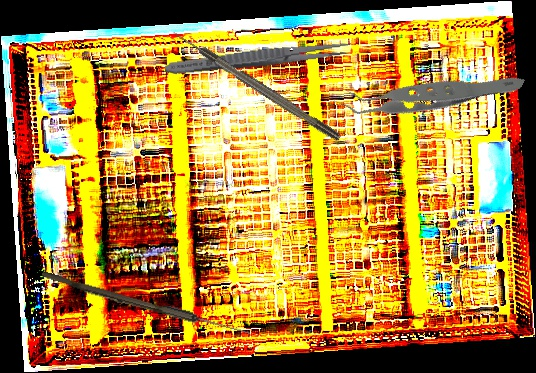Dressing Forceps: (164, 37, 353, 79)
Hook Surgical: (170, 26, 342, 144)
Surgical Spoon: (40, 271, 252, 338)
Tissue Forceps: (332, 10, 526, 172)
